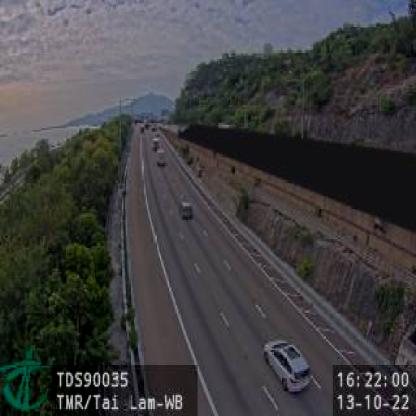Car: (264, 338, 314, 392), (179, 196, 193, 219)
